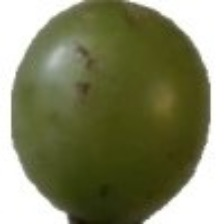grapes: (44, 27, 197, 174)
